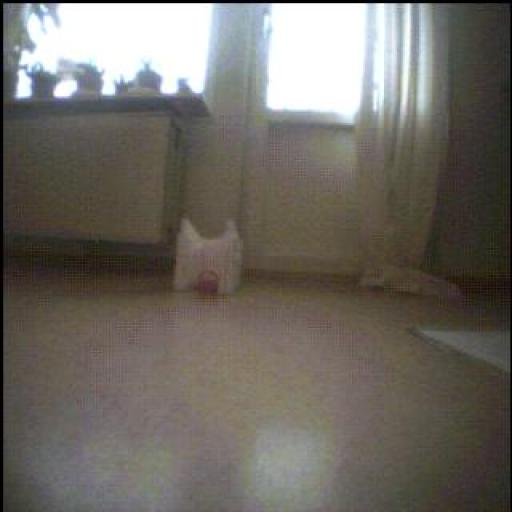Basket: (195, 272, 220, 296)
